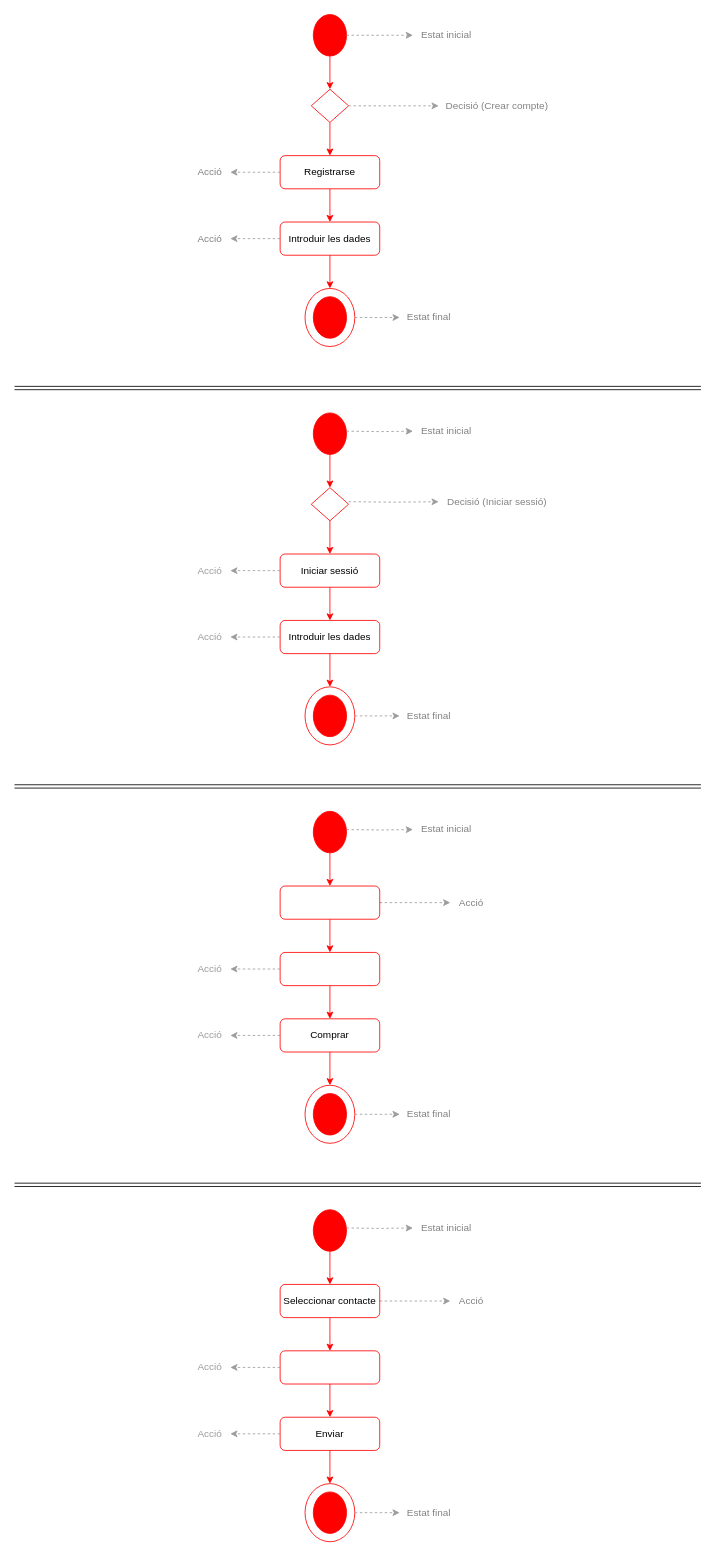
Image size: 715x1556. Some labels were removed from this diagram. The shapes that lost their labels are listed below. From the top down, each one's centre as x and y in pixels, then its label:
point 329,902: Seleccionar producte
point 329,969: Seleccionar quantitat
point 329,1367: Introduir dades
